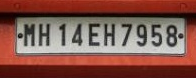1: (58, 23, 67, 47)
4: (71, 23, 83, 47)
5: (150, 23, 163, 47)
7: (120, 23, 133, 47)
8: (166, 24, 178, 47)
9: (135, 23, 148, 46)
E: (87, 22, 101, 46)
H: (102, 22, 117, 47), (37, 22, 51, 47)
M: (22, 23, 37, 47)
